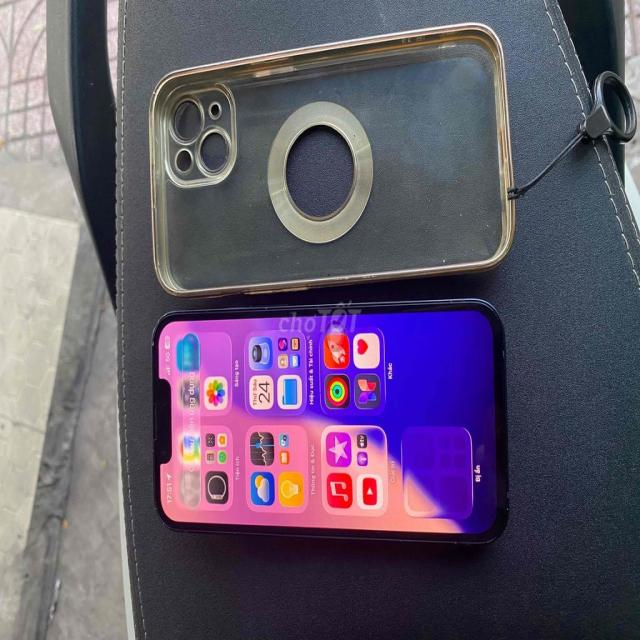scratch: (147, 314, 169, 539), (491, 328, 514, 526)
